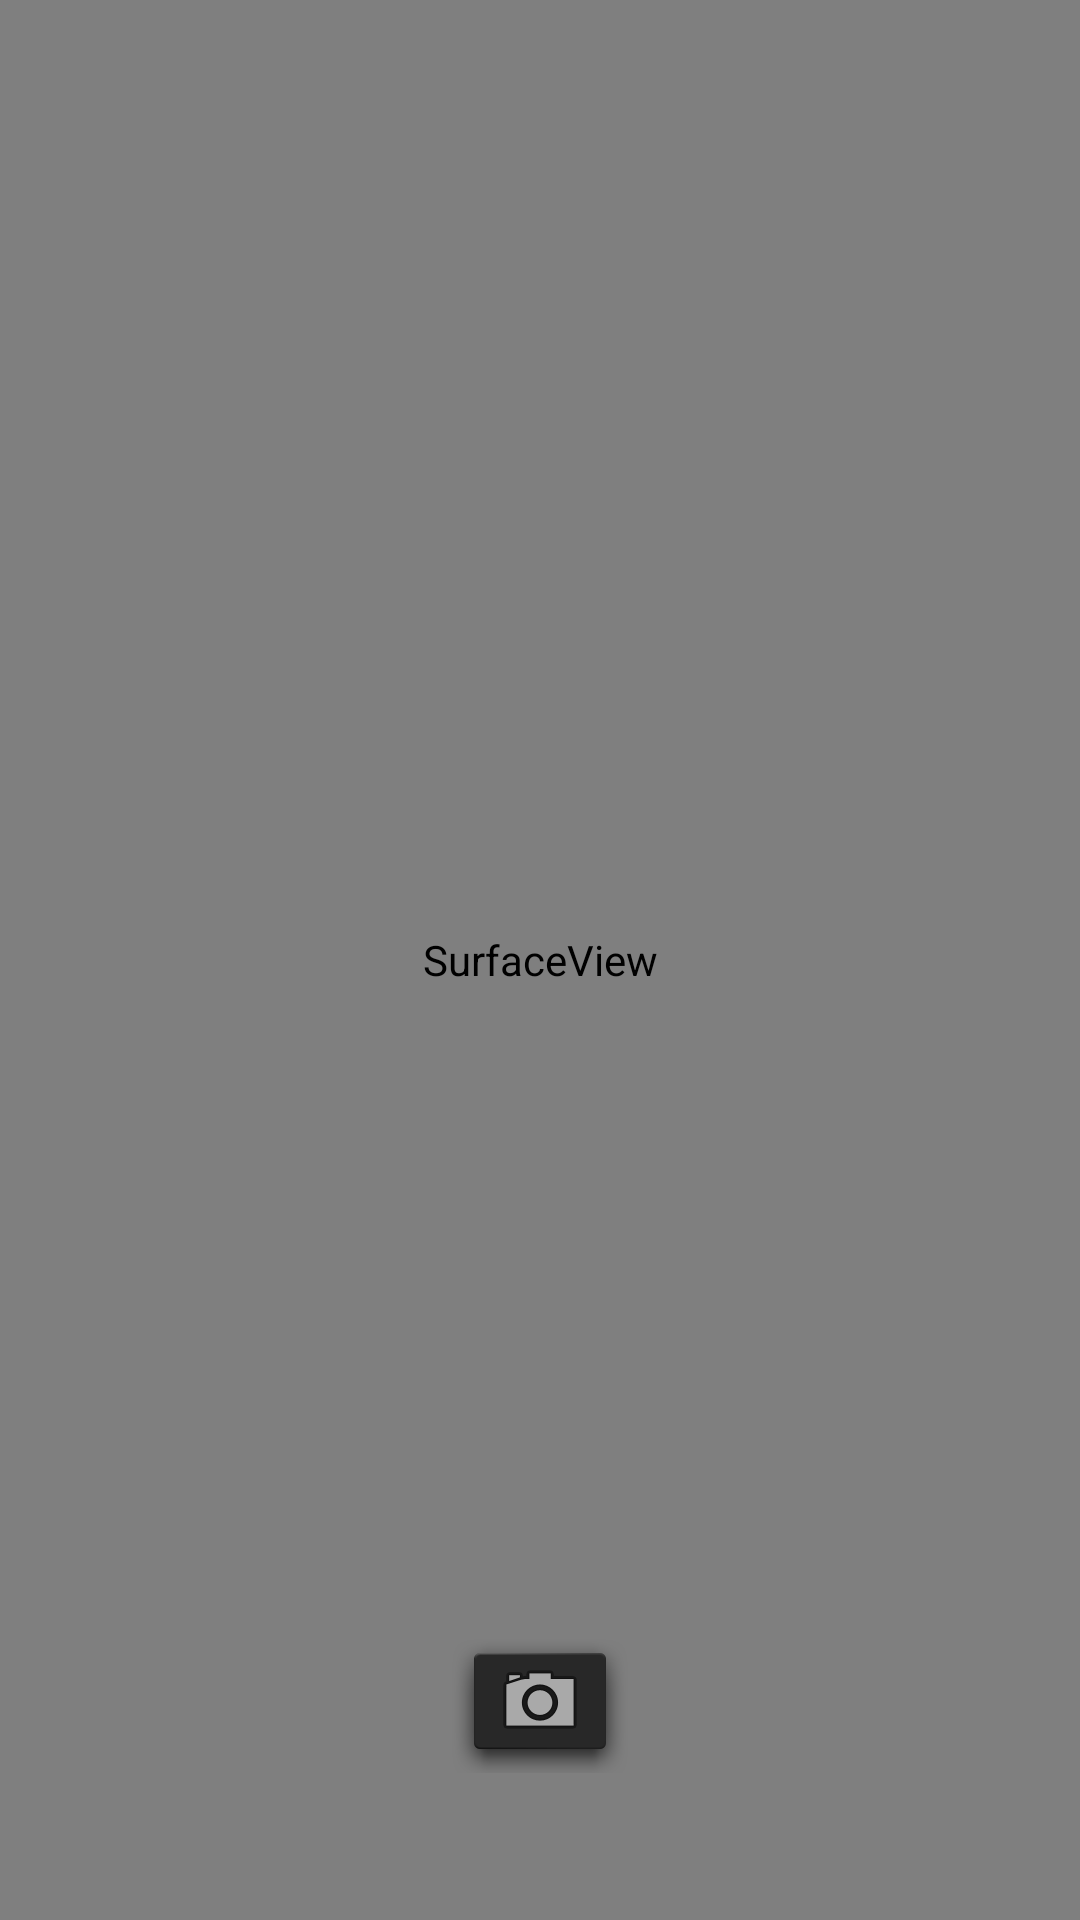

Named icons in this screenshot (1080px x 1920px) and their centers, (x=x, y=y):
camera: (x=540, y=1708)
